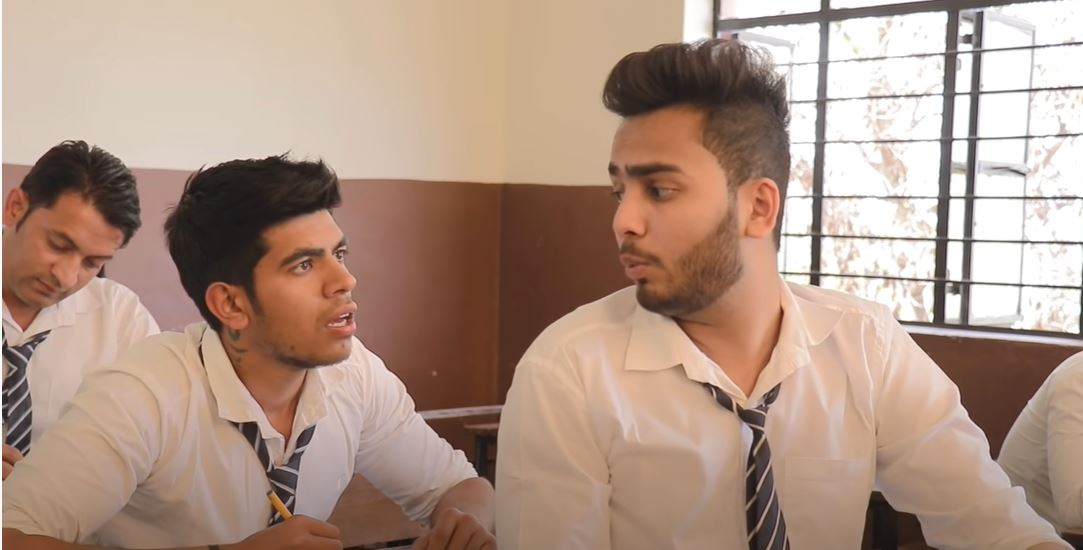student: (132, 155, 488, 550), (1, 132, 182, 402)
studentsleep: (530, 40, 957, 550)
